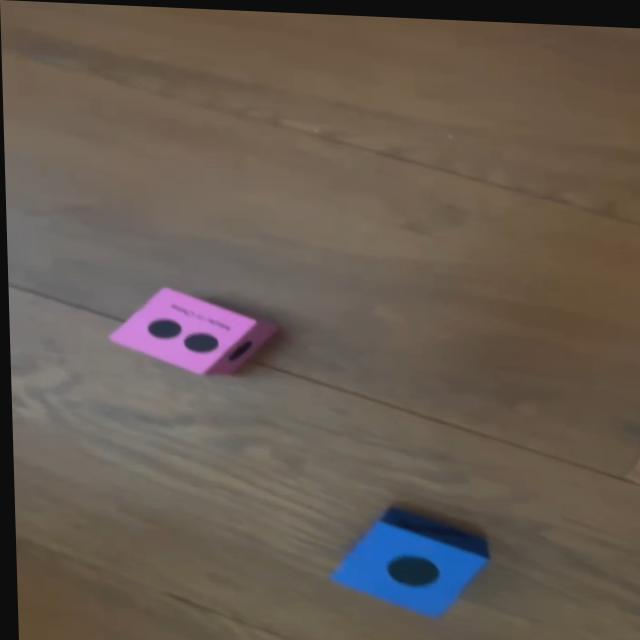blue_block: (328, 501, 486, 617)
